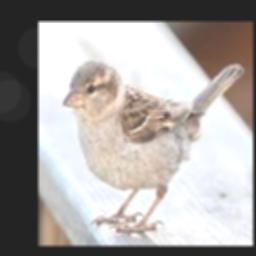Sparrow: (62, 59, 244, 231)
